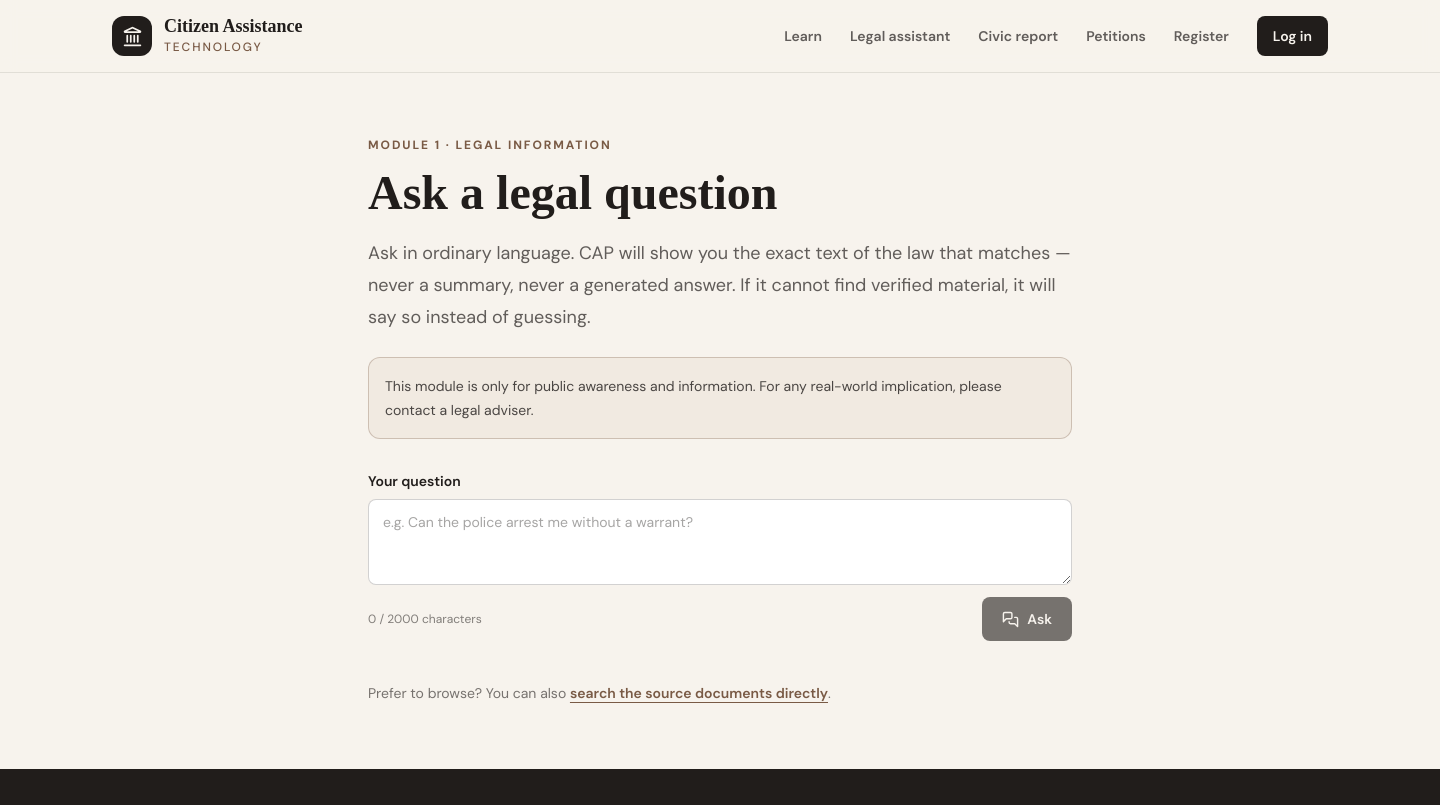
Scenario: LegalAssistantPage › sends the previous question as context with a follow-up, and shows the combined reading
Type "Can a woman be arrested at night?" into the text box labelled "Your question".
click(720, 542); type("Can a woman be arrested at night?")  # box [368, 499, 1072, 585]
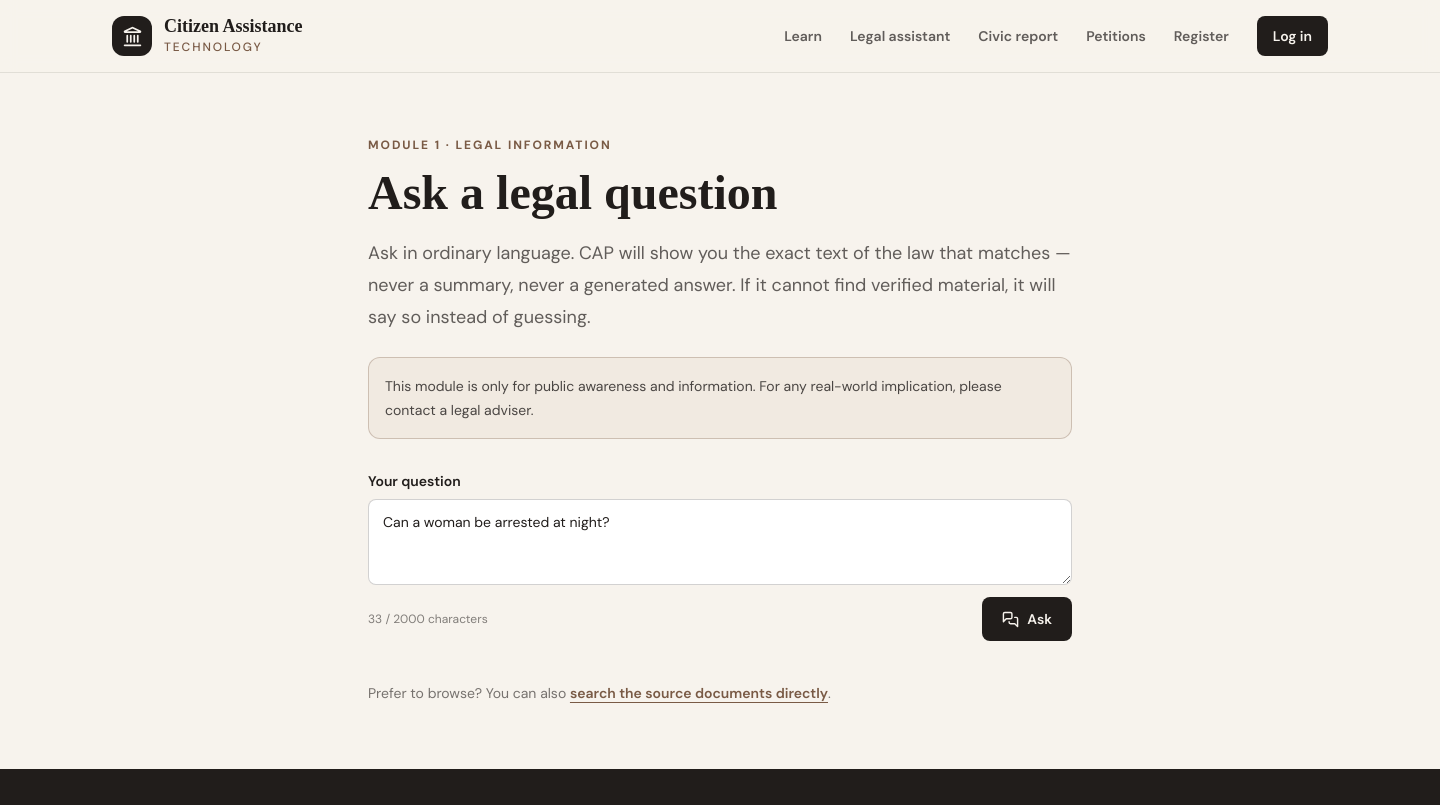
Click the button "Ask".
click(1027, 619)  # box [982, 597, 1072, 641]
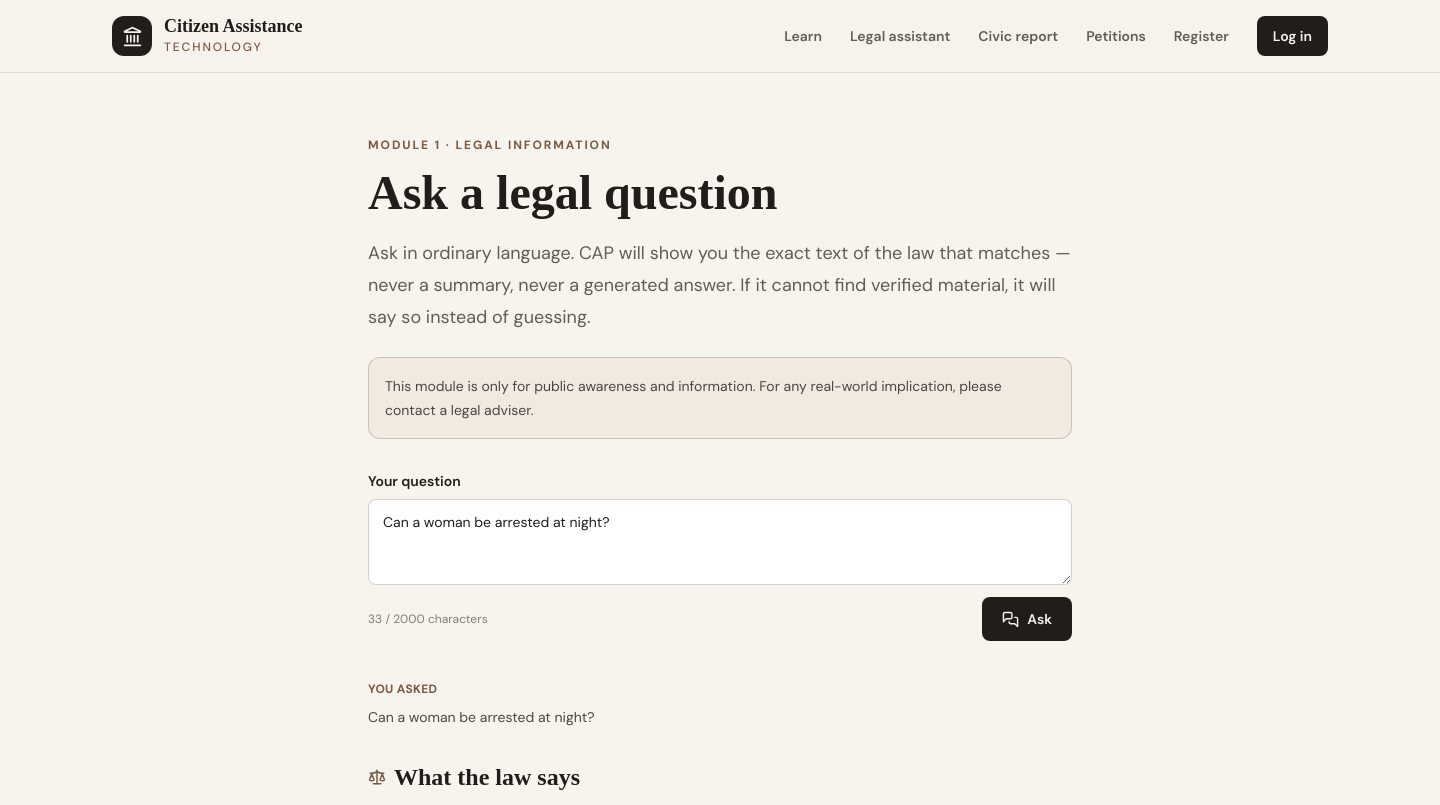
expect the heading "What the law says" is shown: met, box [394, 761, 580, 793]
Replace the text in the text box labelled "Your question" with "What if I am a minor?" at (720, 542), box [368, 499, 1072, 585]
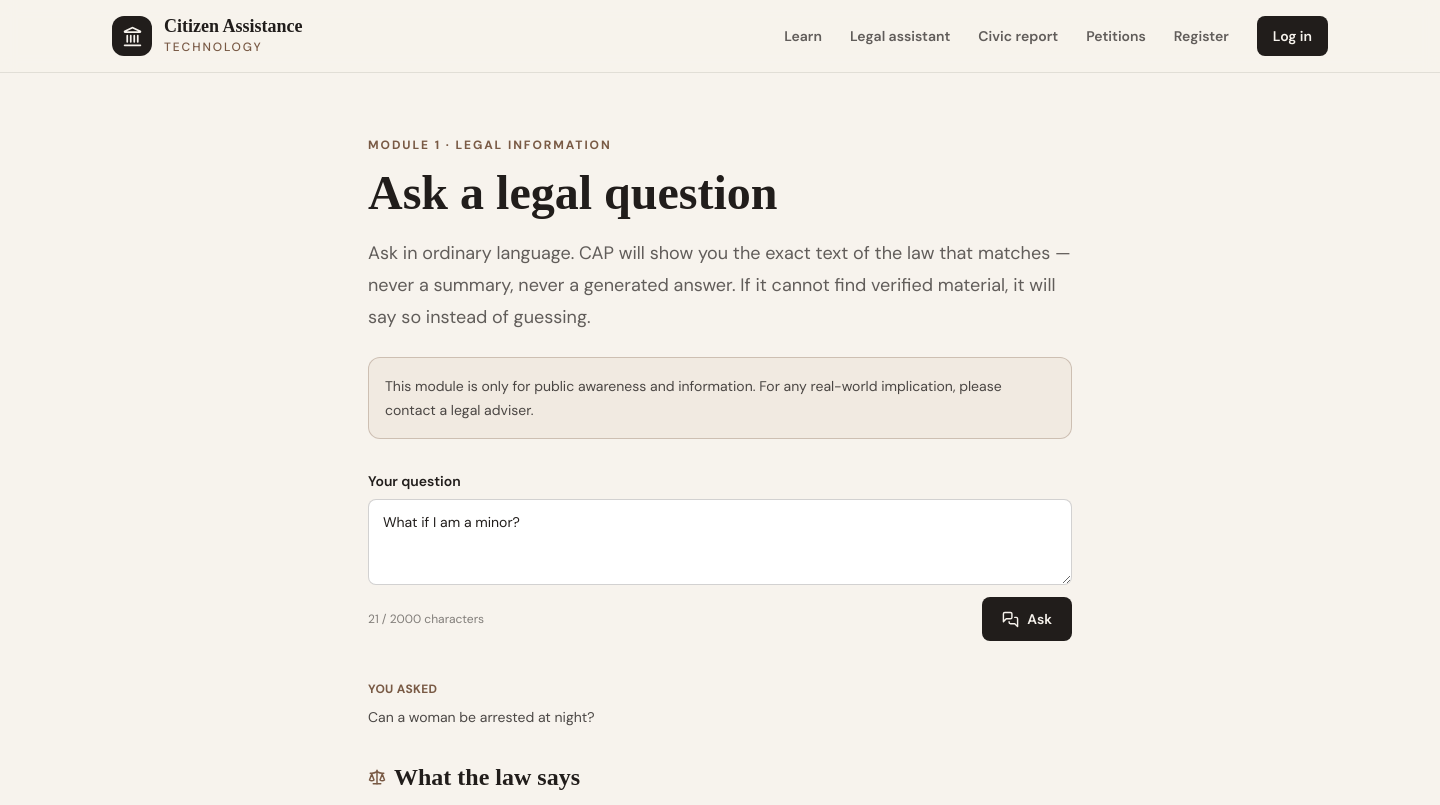
Click the button "Ask".
click(1027, 619)  # box [982, 597, 1072, 641]
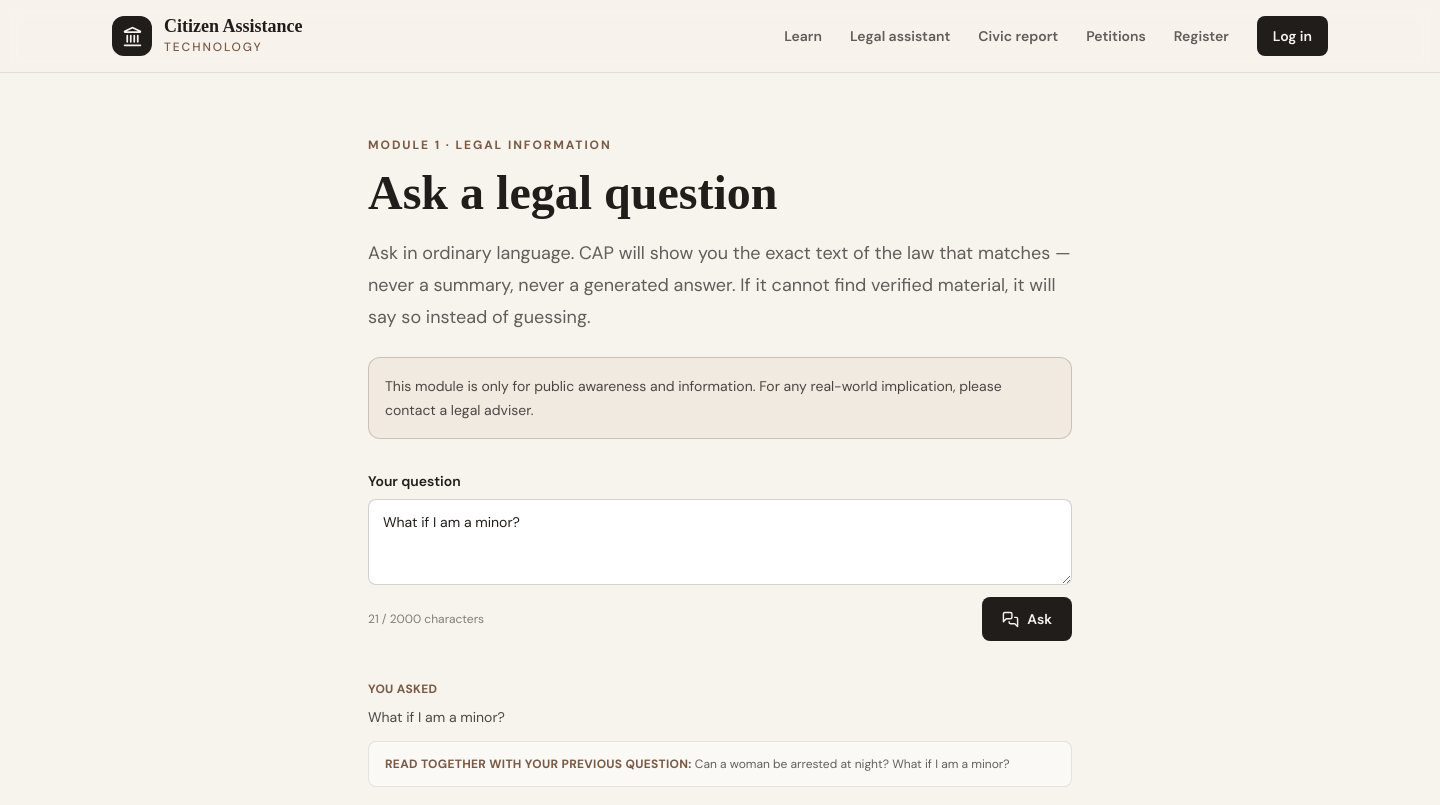
expect the text "Read together with your previous question:" is shown: met, box [385, 756, 695, 772]
expect the text "Can a woman be arrested at night? What if I am a minor?" is shown: met, box [695, 756, 1010, 772]
